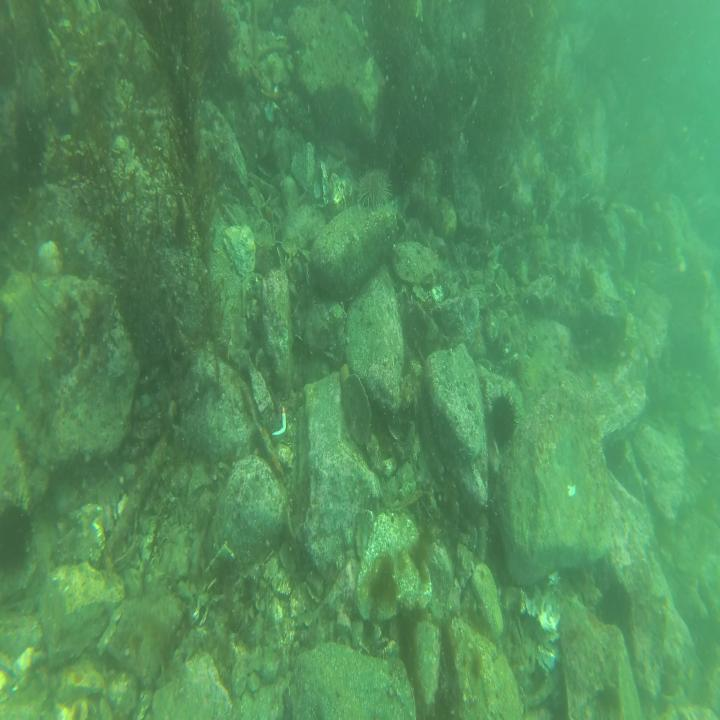echinus: (13, 108, 49, 173), (487, 387, 522, 450), (2, 496, 30, 564), (356, 172, 388, 206)
